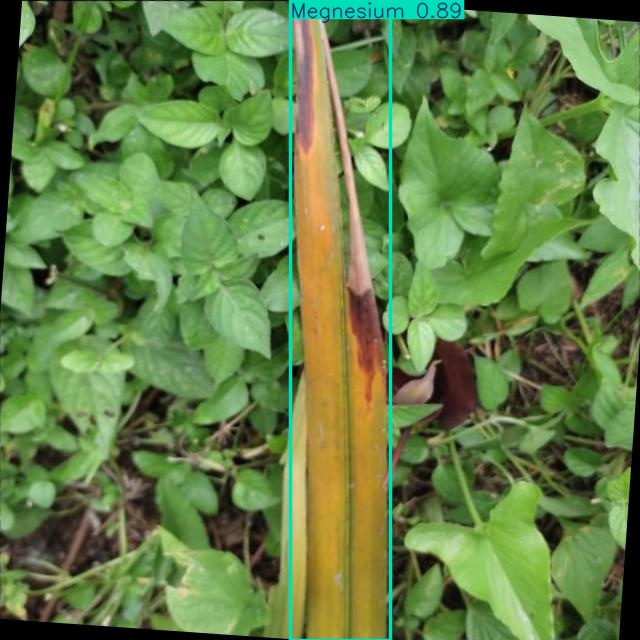Megnesium: (290, 1, 391, 640)
